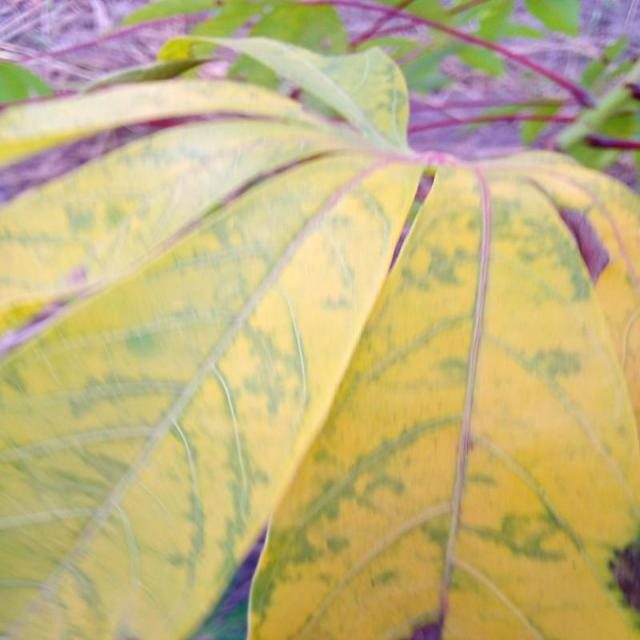cassava leaf: (0, 29, 638, 638), (245, 154, 639, 639)
